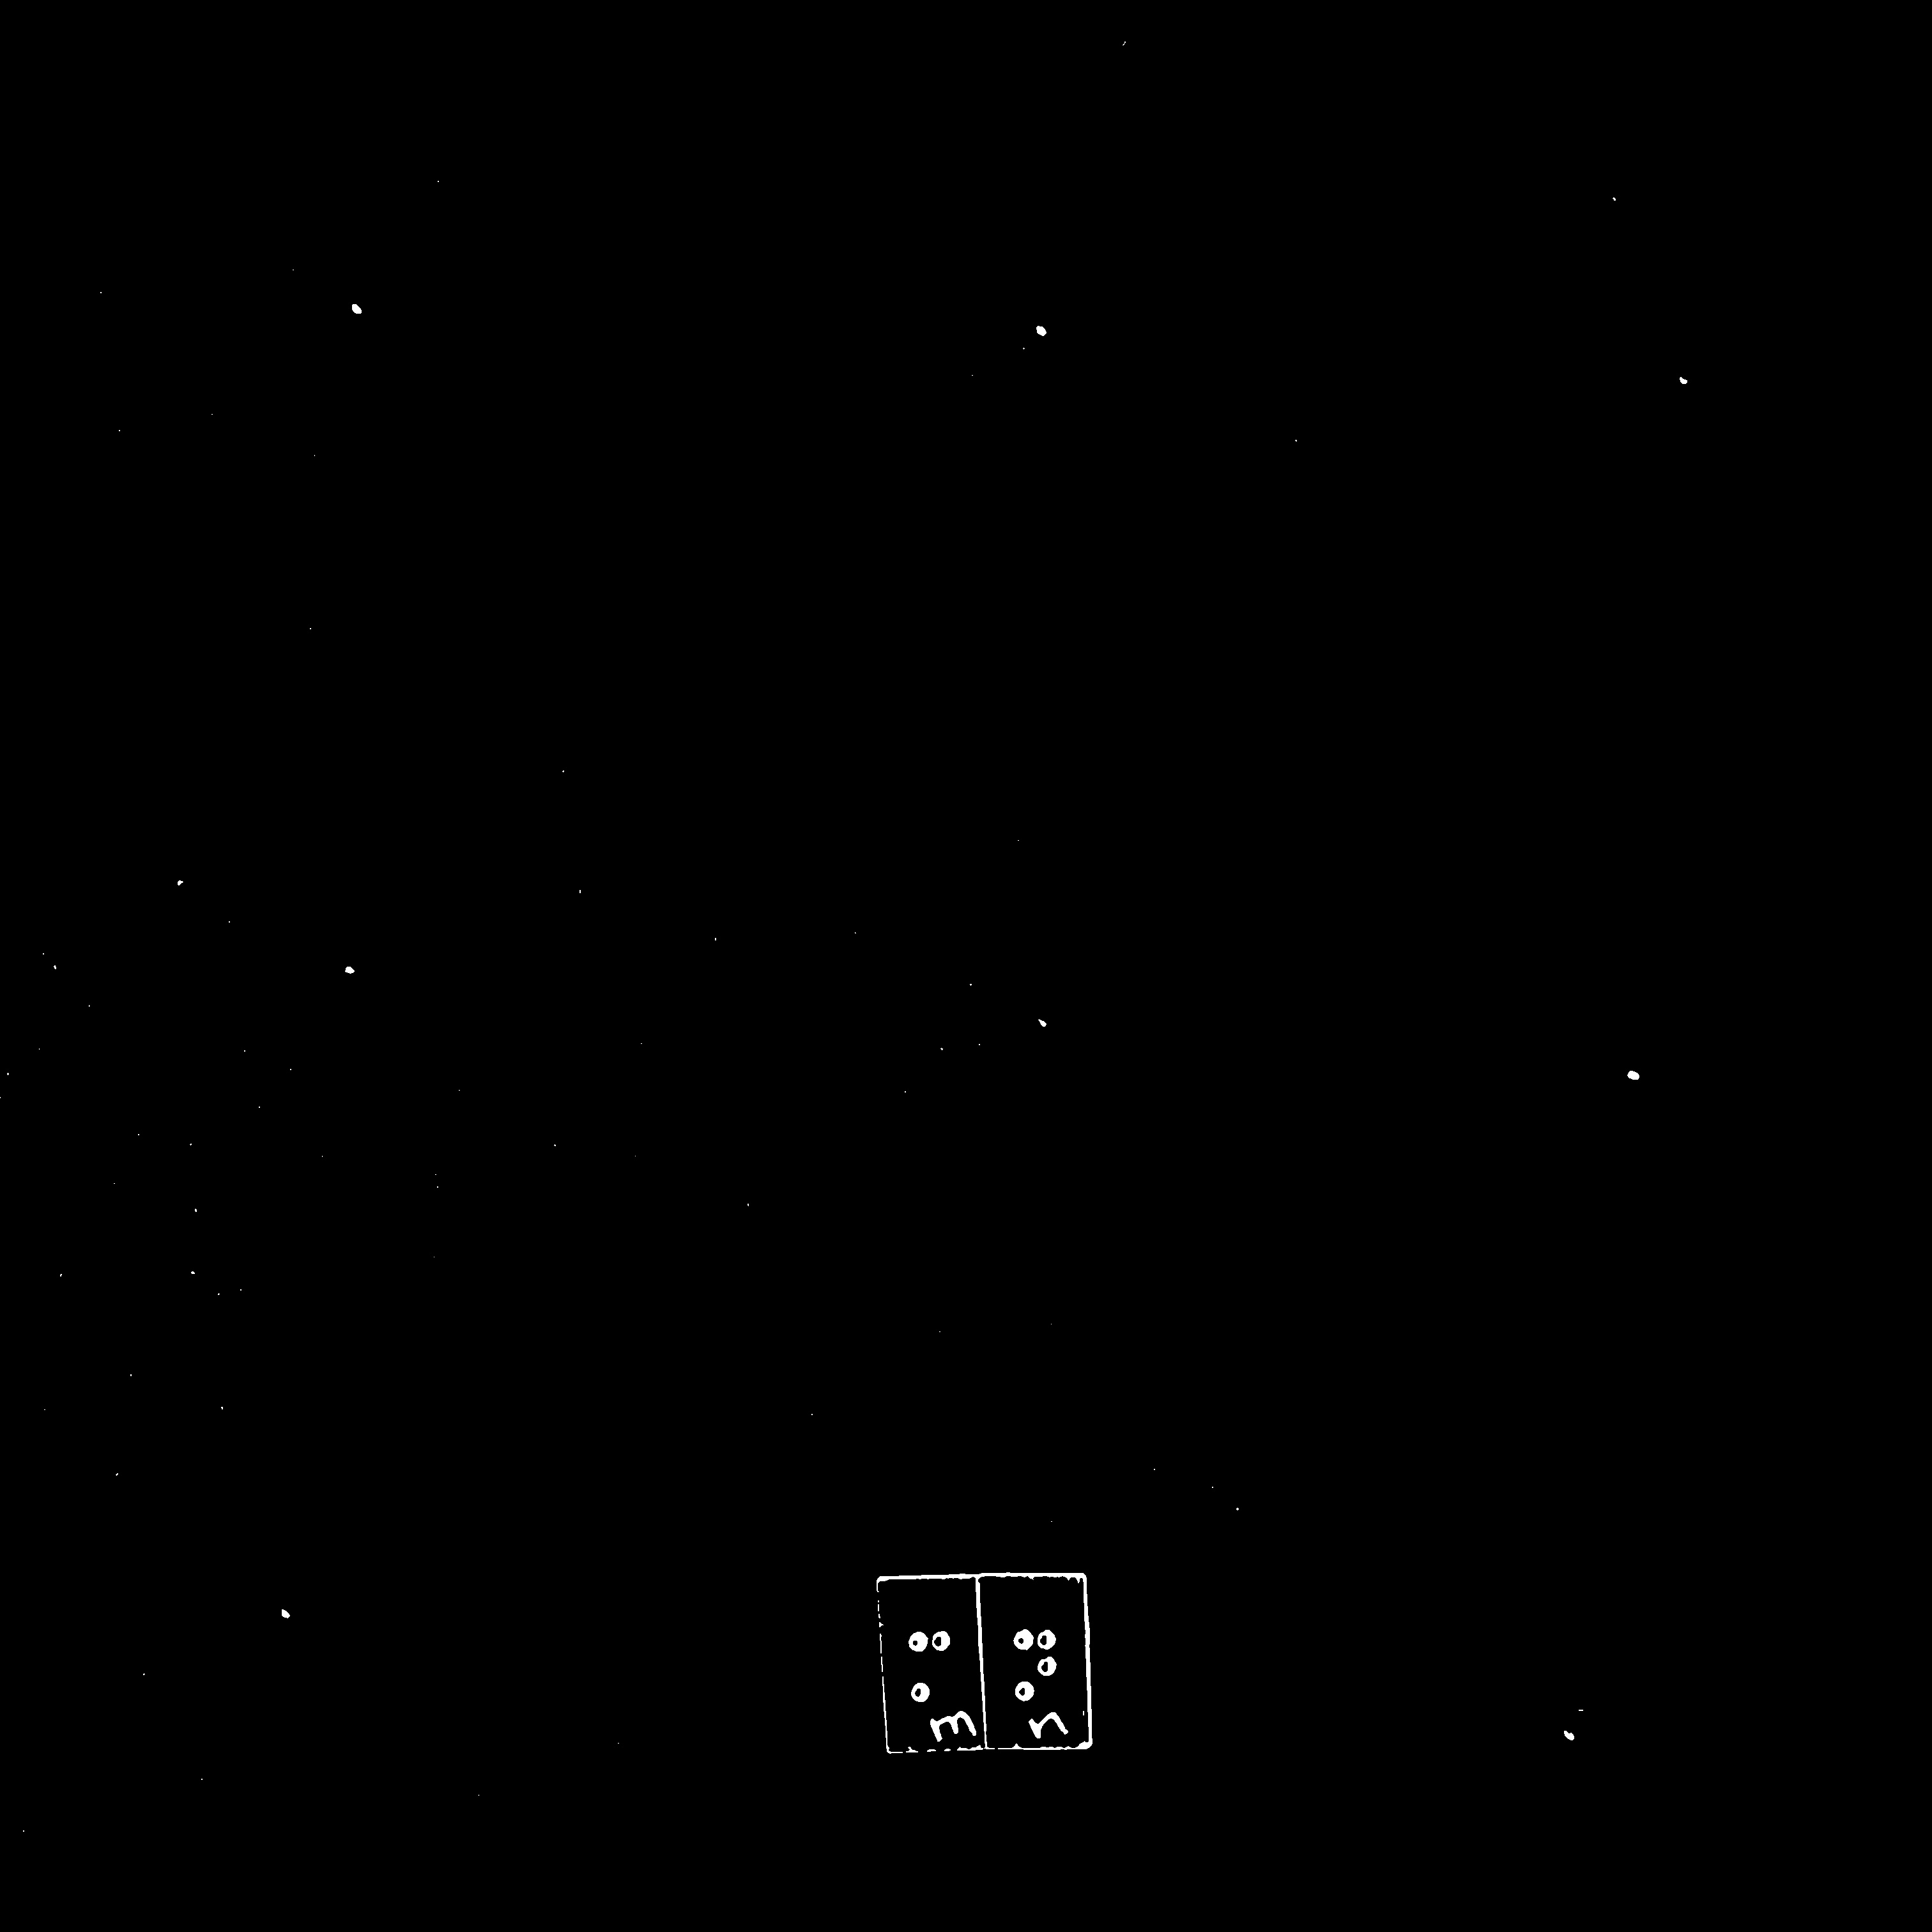m: (900, 1619, 965, 1716)
n: (1004, 1619, 1075, 1716)
